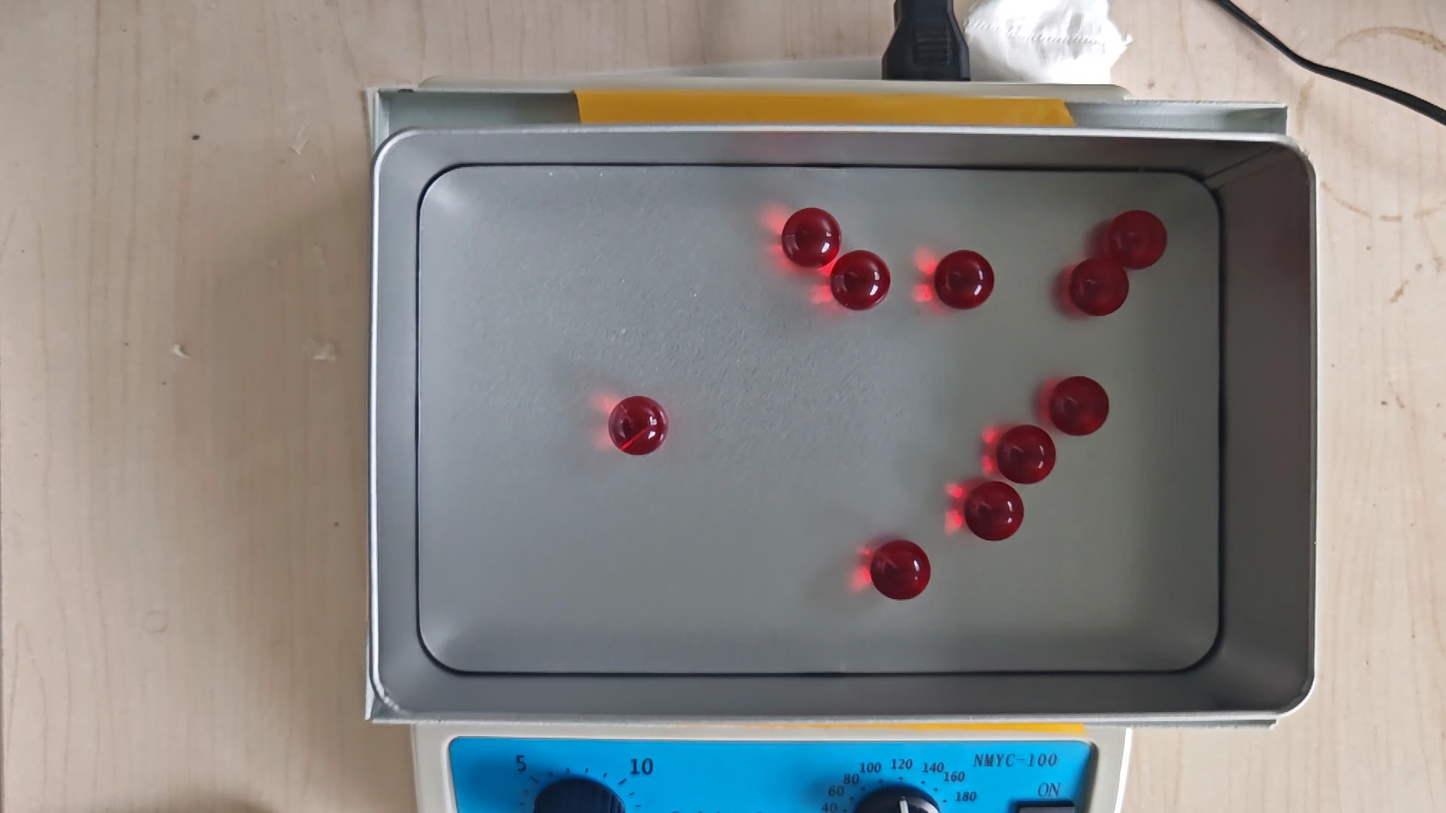ball: (870, 539, 932, 601), (964, 480, 1025, 542), (1050, 376, 1111, 437), (934, 249, 995, 310), (781, 207, 841, 268), (609, 394, 668, 456), (997, 425, 1057, 485), (1108, 209, 1168, 269), (831, 250, 890, 311), (1070, 258, 1129, 317)
container: (417, 166, 1221, 674)
